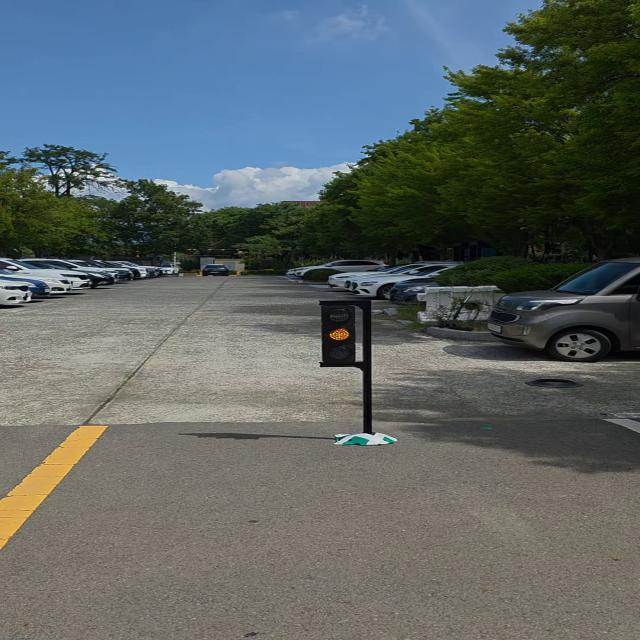yellow: (326, 304, 358, 369)
